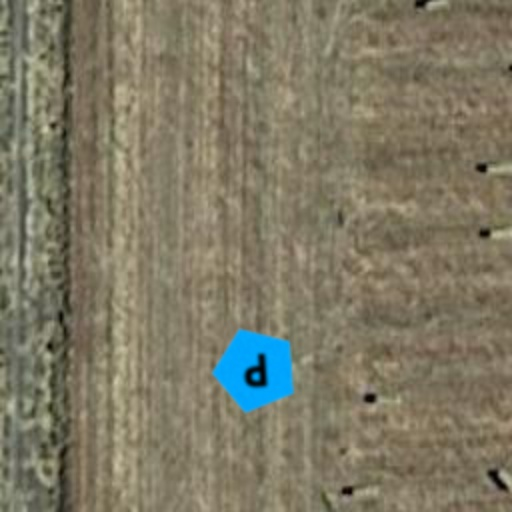pentagon: (208, 322, 304, 418)
